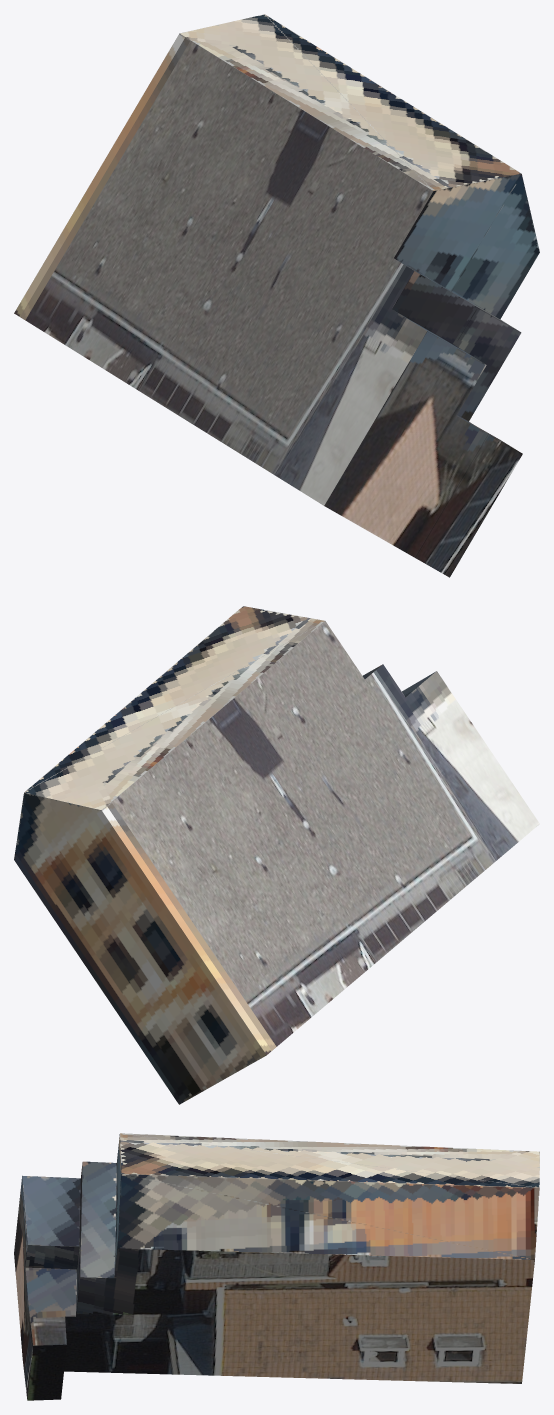
3 renders of one model, top to bottom at view 1: azimuth 30°, elevation 25°; view 2: azimuth 150°, elevation 25°; view 3: azimuth 270°, elevation 25°, orthographic. The views are drawn at different scales.
Parts seen in each view (by area): view 1: BAG_0599100000760476 (×4); view 2: BAG_0599100000760476 (×2); view 3: BAG_0599100000760476 (×6).
Part boxes in pixels (x1,y1,x2,y2): BAG_0599100000760476 (×4): (14,14,539,577); BAG_0599100000760476 (×2): (14,606,539,1104); BAG_0599100000760476 (×6): (14,1133,539,1400).
Bounding box in the file's own units: 9.82 × 11.18 × 18.81.
Materials: 7 (7 with a texture image).
